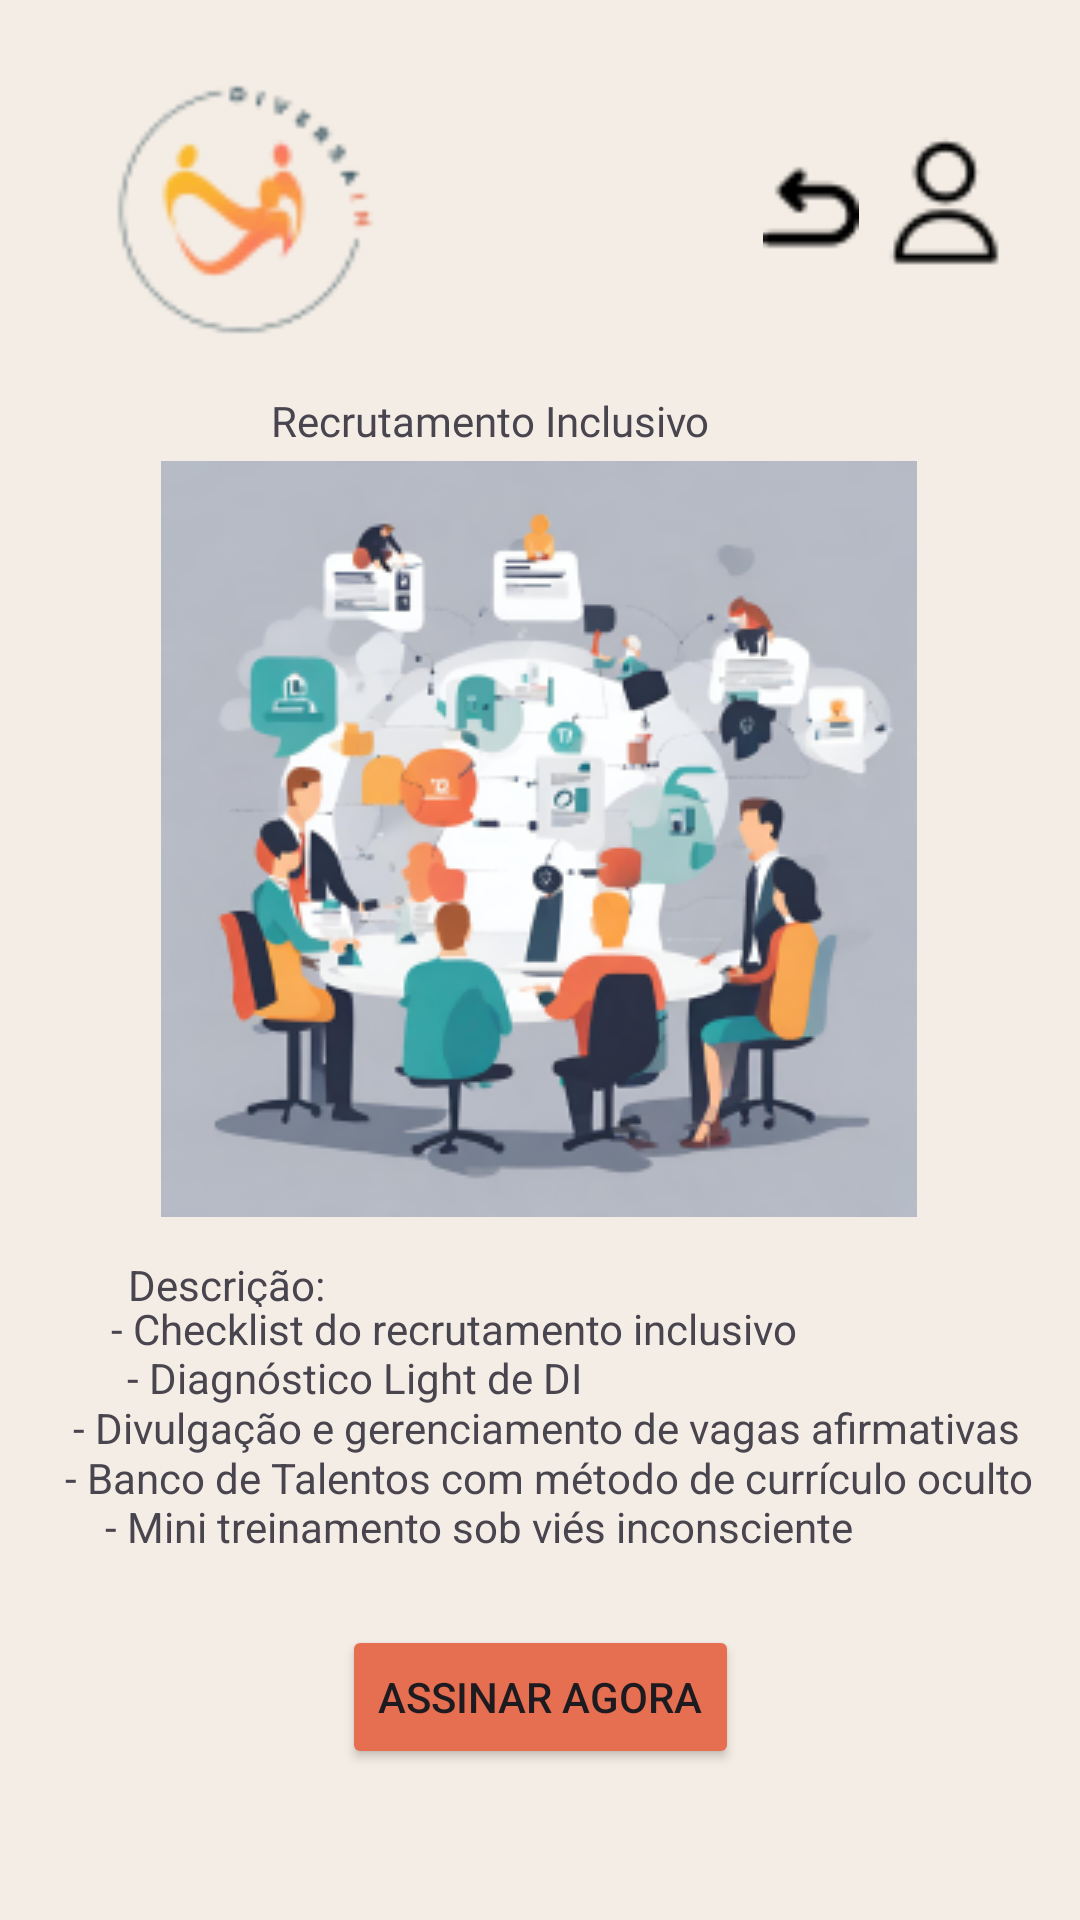

Point at icon controls on the screen. Image size 1080px×1920px, points as (x=x, y=y).
voltar: (x=811, y=207)
